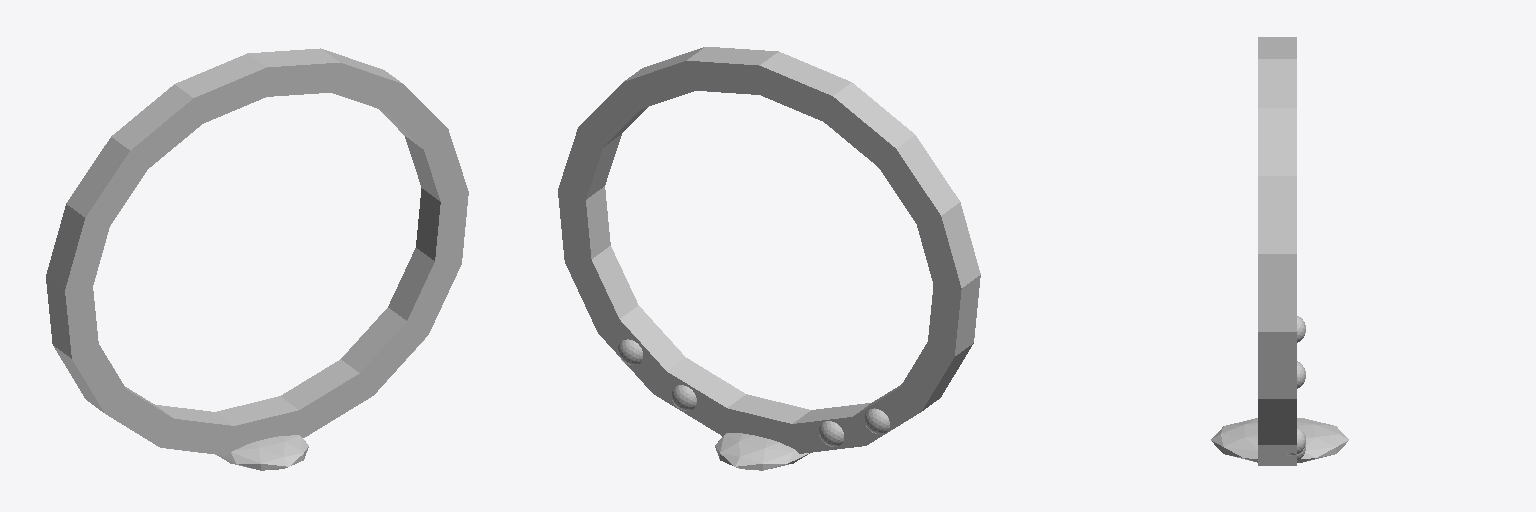
File: Ring.obj
The picture shows the model from 3 angles: view 1: azimuth 30°, elevation 25°; view 2: azimuth 150°, elevation 25°; view 3: azimuth 270°, elevation 25°; orthographic projection.
Visible parts, largest first — view 1: Ring; view 2: Ring; view 3: Ring.
Part boxes in pixels (left/top/right/bottom): Ring: left=46, top=48, right=468, bottom=470; Ring: left=558, top=47, right=980, bottom=470; Ring: left=1211, top=37, right=1348, bottom=465.
Size of the model in its own units: 0.7949 by 0.7393 by 0.2373.